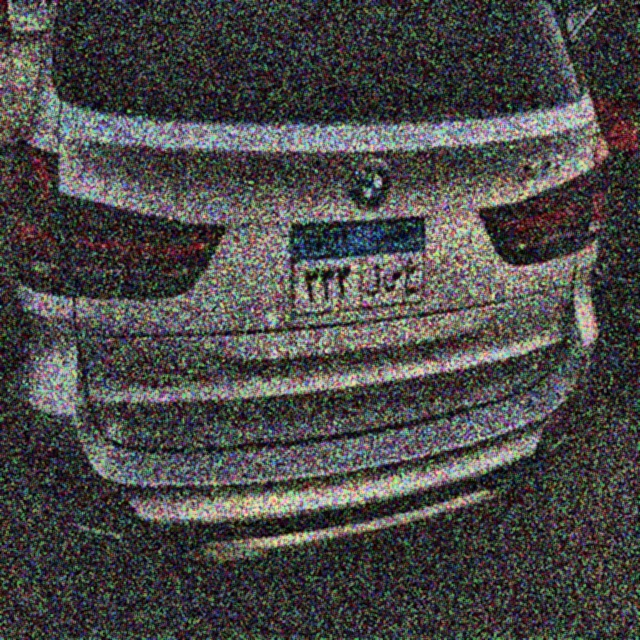License Plate: (289, 214, 428, 317)
